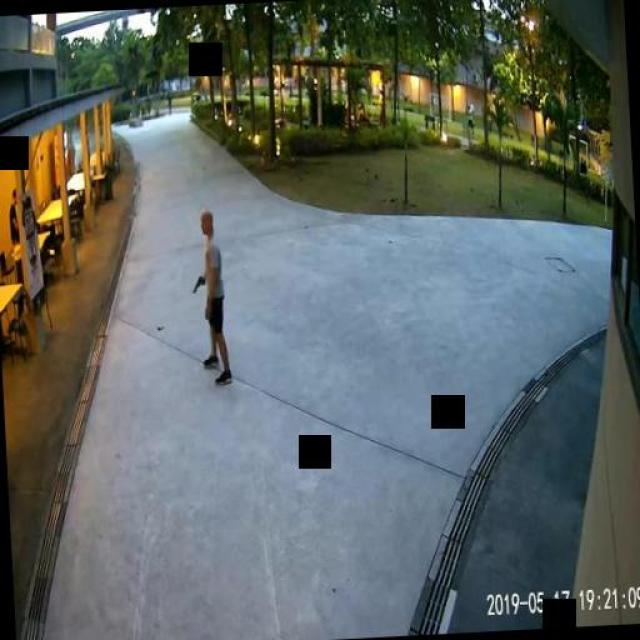gun: (190, 274, 204, 291)
